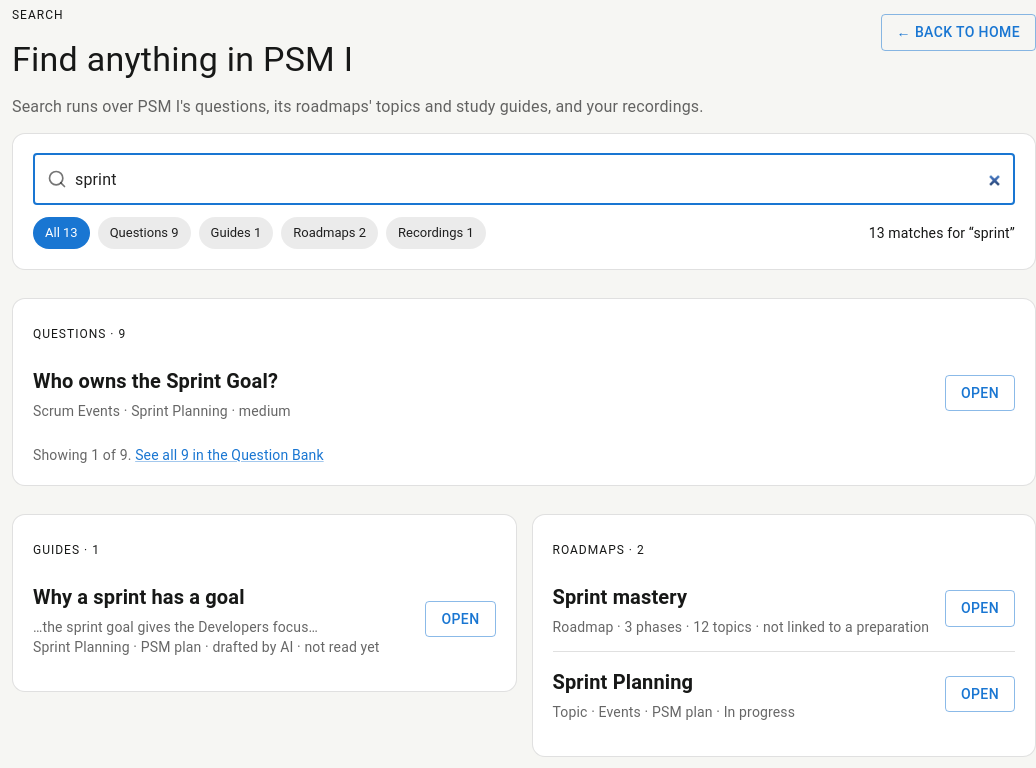
Test: SearchPage › shows one kind, more of it, when that kind is chosen
What coordinates should you click on to do the following:
click the button "Recordings 1"
I would click on:
 (436, 233)
Its box is left=386, top=217, right=486, bottom=249.
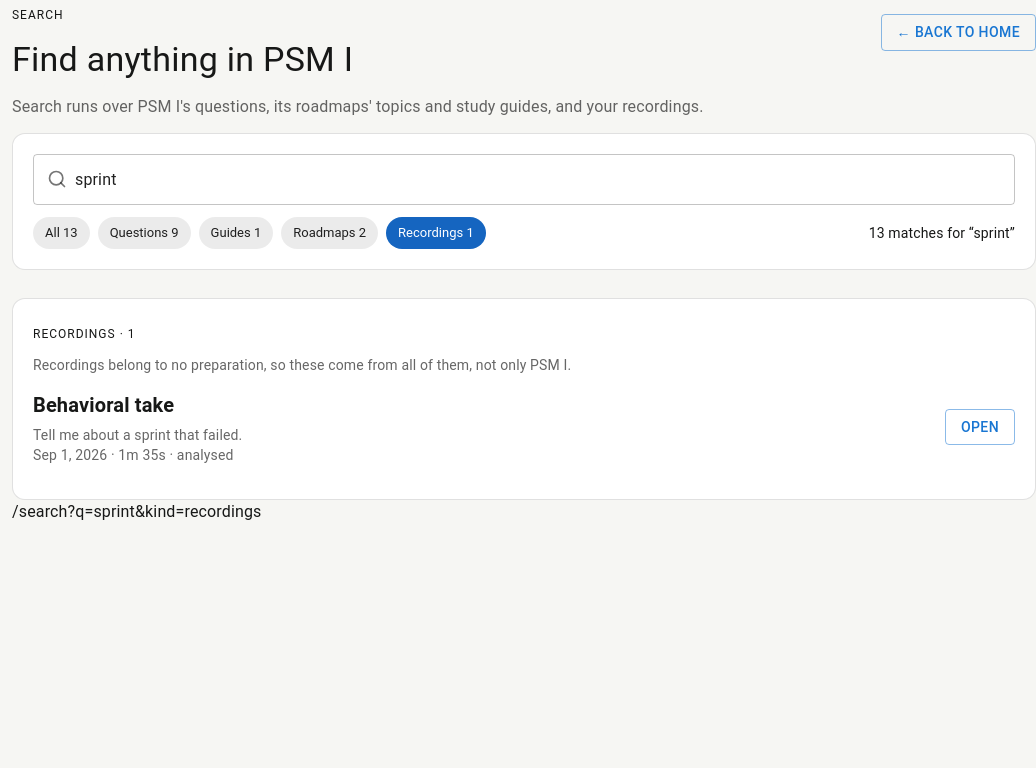
Check: the element "Recordings" is shown, box left=12, top=298, right=1035, bottom=500
Check: the text with test id "where" reads "/search?q=sprint&kind=recordings", box left=12, top=502, right=262, bottom=521
